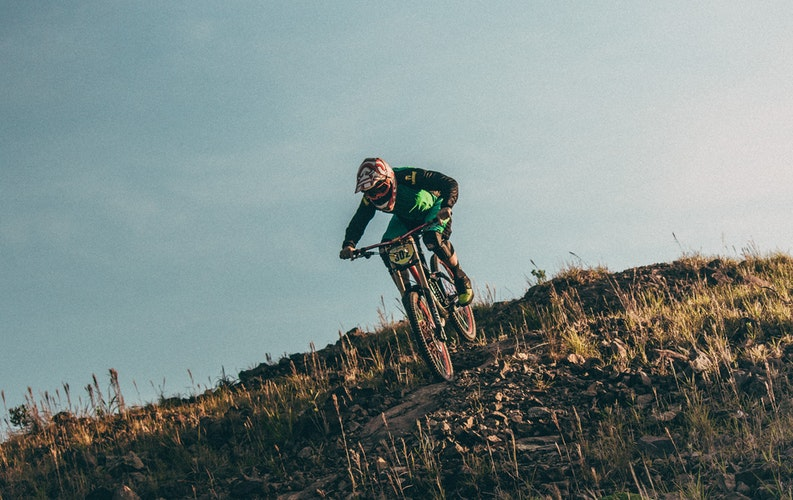helmet: (349, 151, 395, 214)
